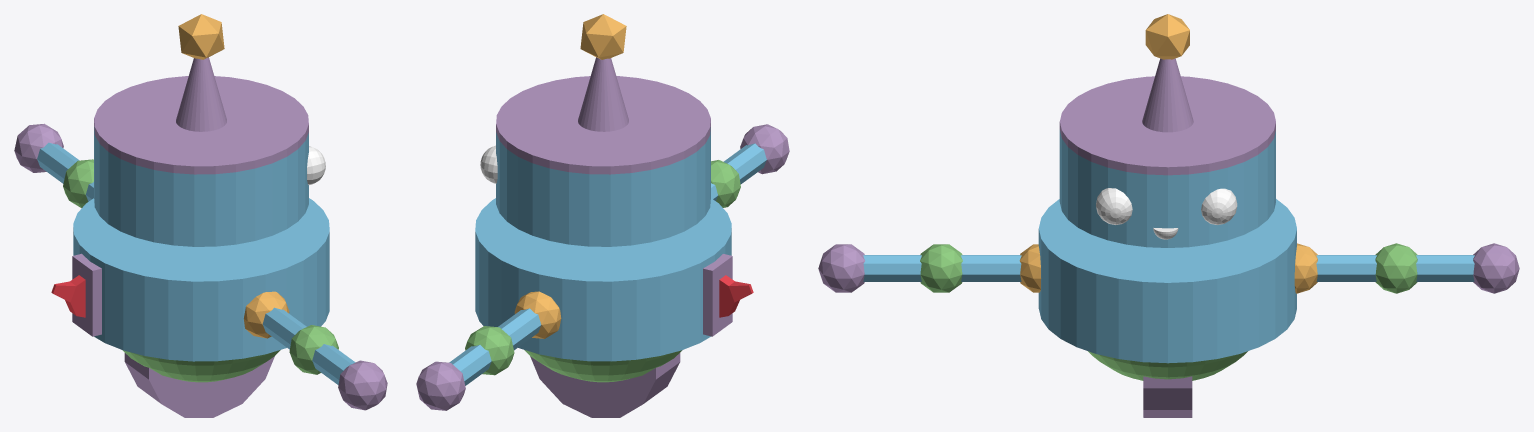
Rendered from Project_Roboto_withcolor.glb.
3 views of the same model, side by side, from view 1: azimuth 30°, elevation 25°; view 2: azimuth 150°, elevation 25°; view 3: azimuth 270°, elevation 25° (orthographic).
Visible parts, largest first — view 1: Body_poly, Head_01_poly, Head_02_poly, Wheel_poly, Antenna_01_poly, Butt_poly, Hand_R_poly, Switch_01_poly, Antenna_02_poly, Elbow_R_poly, Hand_L_poly, Shoulder_R_poly (+6 smaller); view 2: Body_poly, Head_01_poly, Head_02_poly, Wheel_poly, Antenna_01_poly, Butt_poly, Hand_L_poly, Switch_01_poly, Antenna_02_poly, Hand_R_poly, Elbow_L_poly, Shoulder_L_poly (+6 smaller); view 3: Body_poly, Head_02_poly, Head_01_poly, Antenna_01_poly, Butt_poly, Wheel_poly, Hand_R_poly, Hand_L_poly, Elbow_R_poly, Elbow_L_poly, Antenna_02_poly, Arm_L_01_poly (+7 smaller).
Part boxes in pixels (x1,y1,x2,y2): Body_poly: [73, 198, 329, 361]; Head_01_poly: [94, 127, 308, 246]; Head_02_poly: [94, 76, 308, 174]; Wheel_poly: [124, 353, 274, 417]; Antenna_01_poly: [176, 57, 226, 131]; Butt_poly: [122, 350, 280, 382]; Hand_R_poly: [338, 360, 387, 410]; Switch_01_poly: [72, 253, 101, 336]; Antenna_02_poly: [178, 14, 224, 59]; Elbow_R_poly: [289, 325, 338, 374]; Hand_L_poly: [14, 123, 63, 172]; Shoulder_R_poly: [243, 291, 289, 338]; Body_poly: [475, 198, 731, 361]; Head_01_poly: [496, 127, 710, 246]; Head_02_poly: [496, 76, 710, 174]; Wheel_poly: [530, 353, 680, 417]; Antenna_01_poly: [578, 57, 628, 131]; Butt_poly: [524, 350, 682, 382]; Hand_L_poly: [416, 361, 465, 410]; Switch_01_poly: [703, 254, 732, 336]; Antenna_02_poly: [580, 14, 626, 59]; Hand_R_poly: [740, 124, 789, 174]; Elbow_L_poly: [465, 326, 514, 375]; Shoulder_L_poly: [514, 291, 561, 338]; Body_poly: [1038, 199, 1296, 363]; Head_02_poly: [1059, 76, 1275, 175]; Head_01_poly: [1059, 130, 1275, 247]; Antenna_01_poly: [1142, 58, 1193, 132]; Butt_poly: [1088, 351, 1247, 380]; Wheel_poly: [1143, 376, 1192, 417]; Hand_R_poly: [818, 244, 864, 292]; Hand_L_poly: [1473, 243, 1519, 293]; Elbow_R_poly: [920, 244, 962, 292]; Elbow_L_poly: [1375, 243, 1417, 293]; Antenna_02_poly: [1145, 14, 1189, 59]; Arm_L_01_poly: [1316, 255, 1376, 281].
Size of the model in its own units: 2.34 by 3.39 by 5.43.
